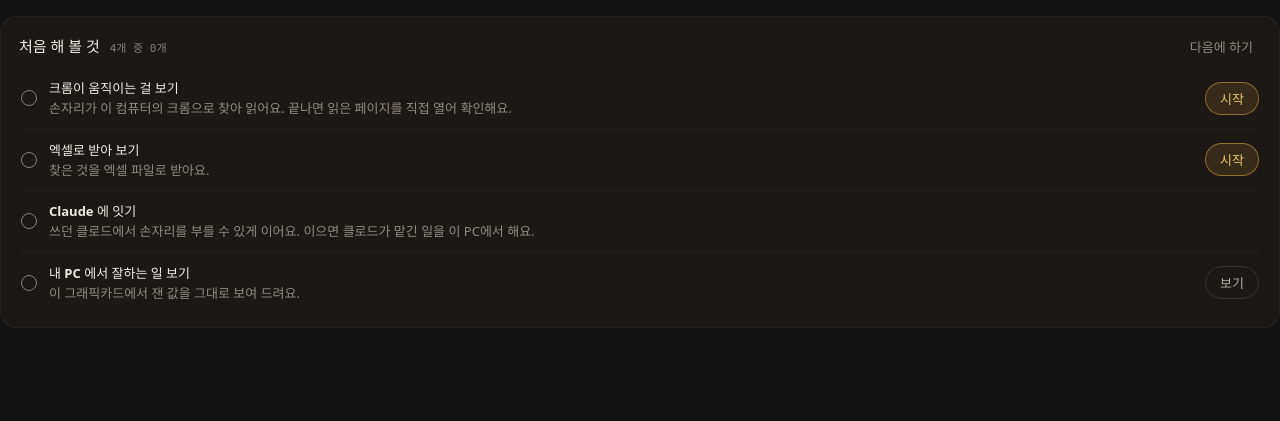
Scenario: 퀘스트 판 › 그래픽카드를 모르면 지어내지 않고 모른다고 말한다
Click the button "보기": [1232, 283] box [1205,266,1259,299]
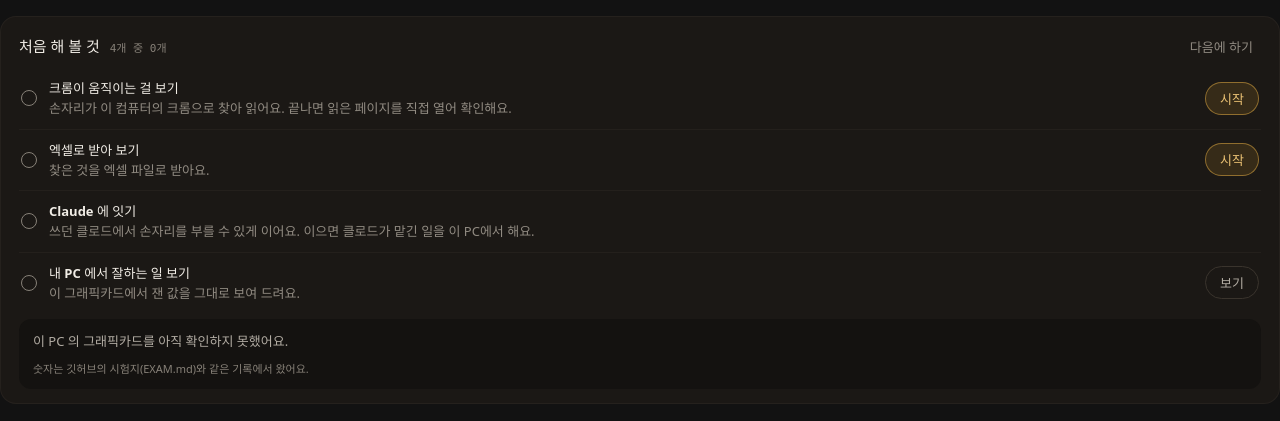
Check: the element that starts with "이 PC 의 그래픽카드를 아직 확인하지 못했어요." is shown, box [33,332,288,350]
